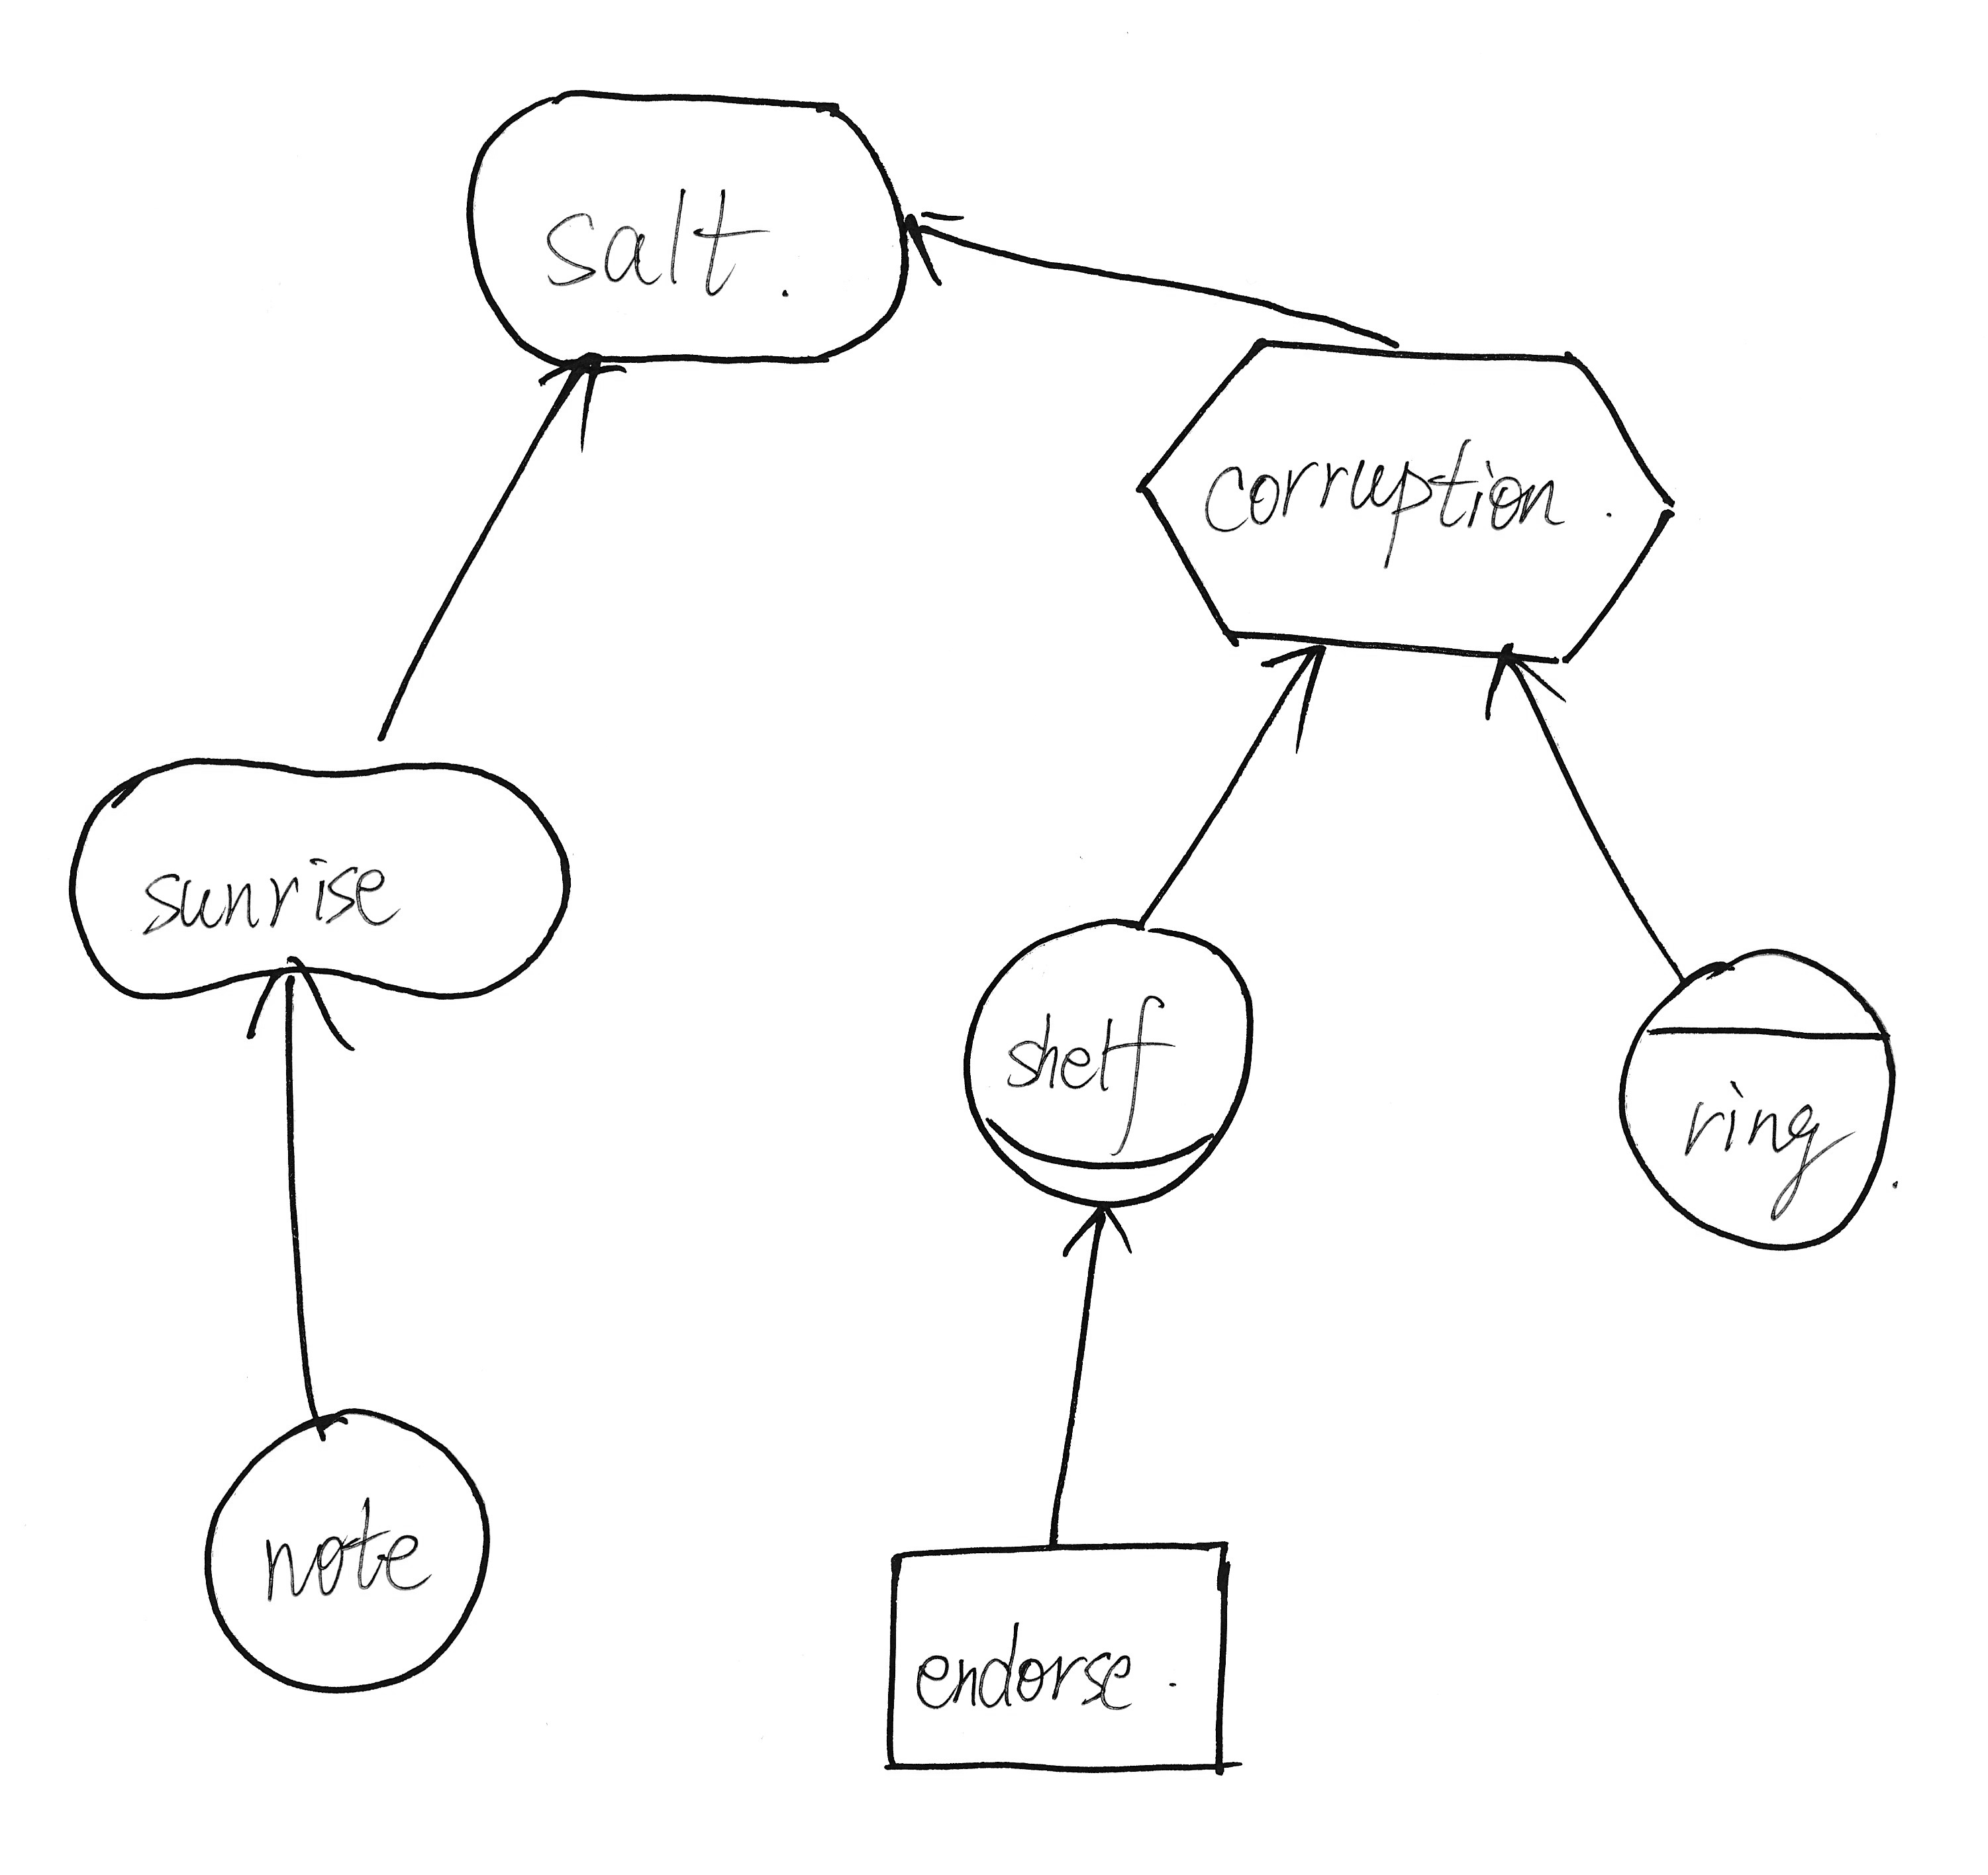actor: (185, 1387, 508, 1708)
agent: (1602, 925, 1910, 1279)
arrow: (238, 941, 360, 1070), (1250, 626, 1343, 768), (1459, 629, 1583, 737), (522, 340, 615, 460), (892, 189, 978, 314), (1057, 1191, 1147, 1278)
goal: (449, 67, 938, 400)
quality: (48, 737, 590, 1017)
resource: (860, 1519, 1271, 1801)
role: (952, 902, 1272, 1228)
task: (1109, 321, 1697, 687)
